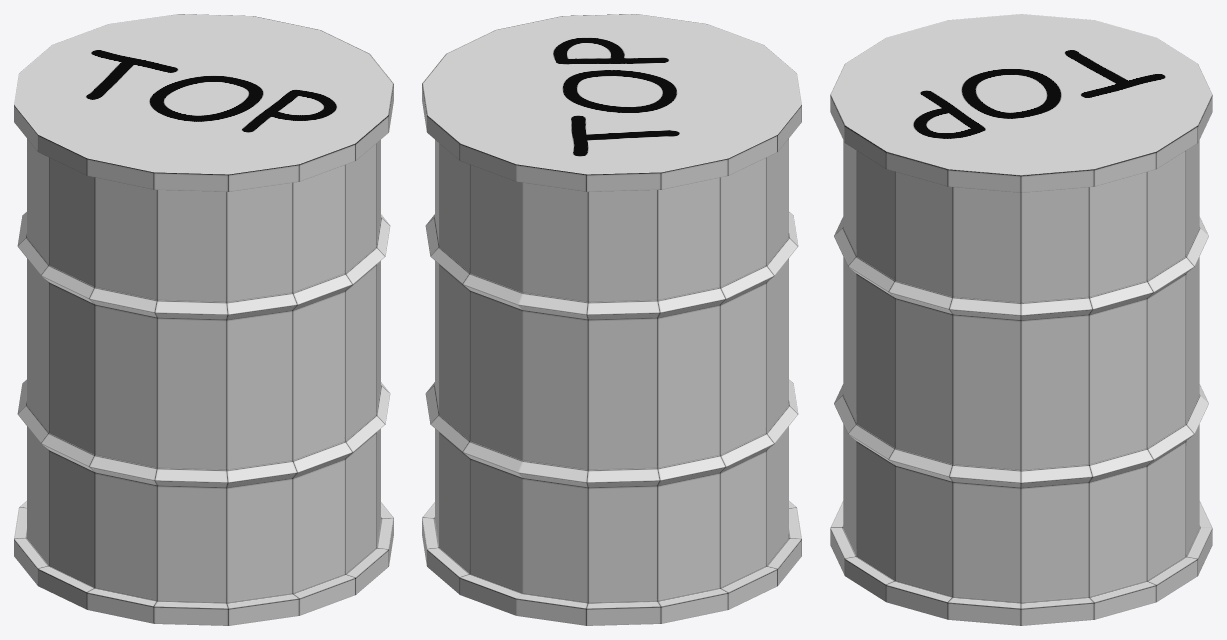
File: barrel_01.obj
The picture shows the model from 3 angles, left to right: view 1: azimuth 30°, elevation 25°; view 2: azimuth 150°, elevation 25°; view 3: azimuth 270°, elevation 25°; orthographic projection.
Parts seen in each view (by area): view 1: Barrel_Cylinder.001; view 2: Barrel_Cylinder.001; view 3: Barrel_Cylinder.001.
Boxes of the visible parts, box(x1,y1,x2,y2) form: Barrel_Cylinder.001: box(14, 14, 393, 625); Barrel_Cylinder.001: box(422, 14, 801, 625); Barrel_Cylinder.001: box(830, 14, 1212, 625).
Bounding box in the file's own units: 2 × 2.6 × 2.
1 material, 1 textured.
